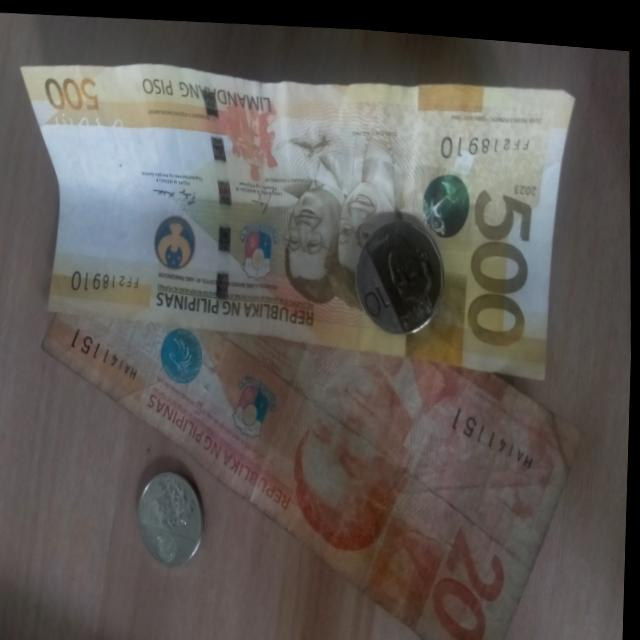10_New_Front: (363, 219, 433, 320)
